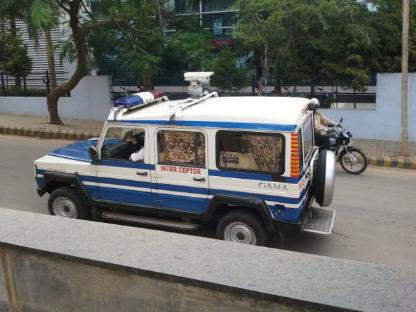priority: (28, 84, 342, 250)
